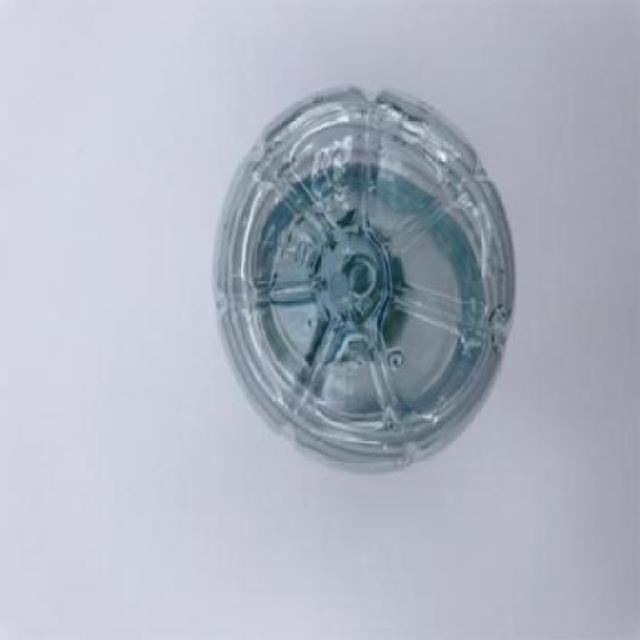Plastic: (212, 80, 516, 477)
